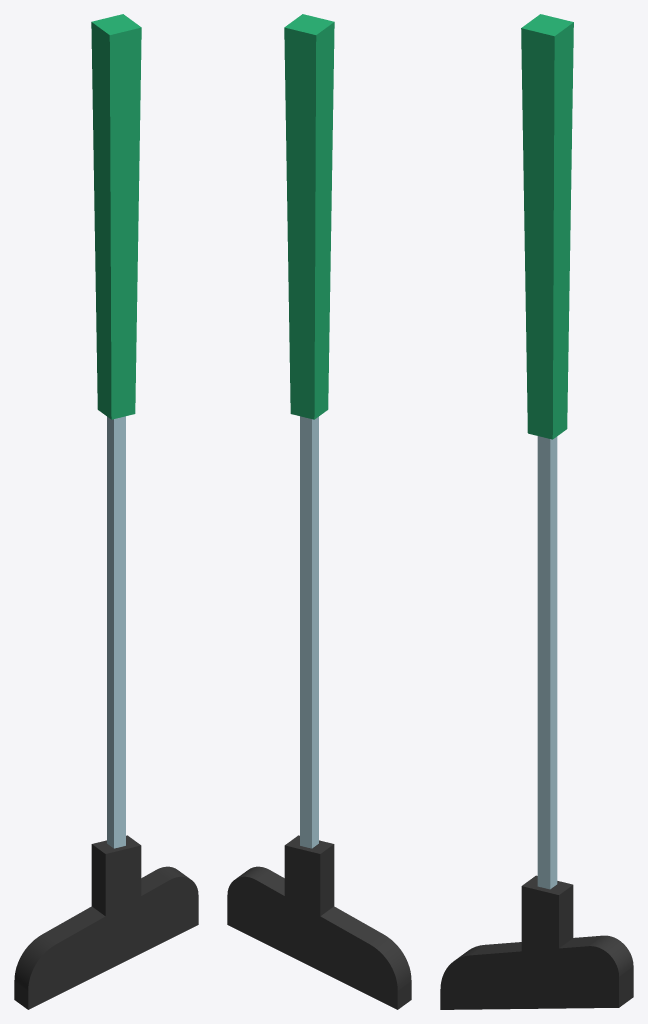
The model's file is club_green.obj.
3 views of the same model, side by side, from view 1: azimuth 30°, elevation 25°; view 2: azimuth 150°, elevation 25°; view 3: azimuth 330°, elevation 25° (orthographic). The views are drawn at different scales.
Parts seen in each view (by area): view 1: club_green; view 2: club_green; view 3: club_green.
Boxes of the visible parts, x1,y1,x2,y2 form: club_green: (14,14,198,1009); club_green: (227,14,411,1009); club_green: (440,14,633,1009).
Bounding box in the file's own units: 0.1844 × 0.9899 × 0.0345.
